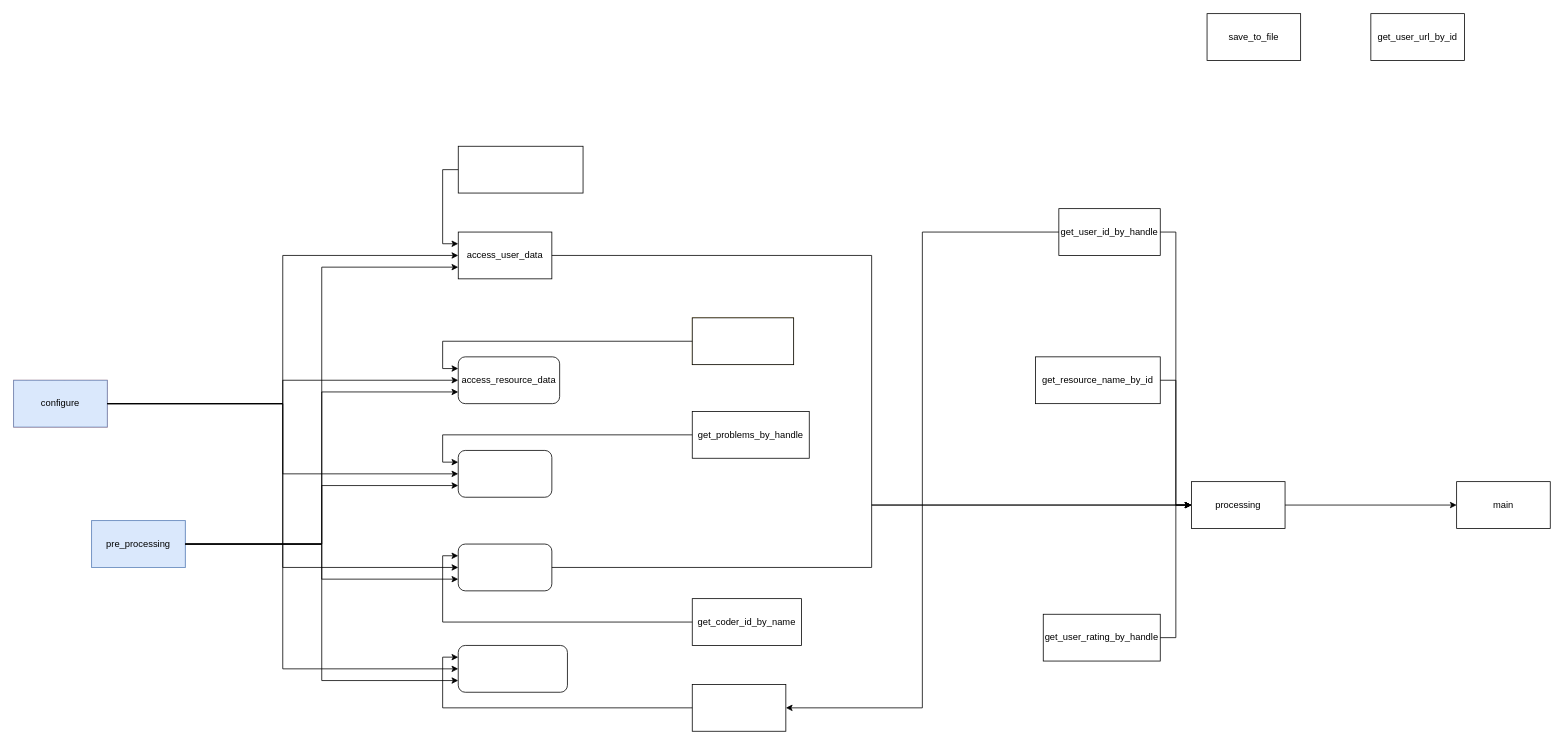
The diagram is 1564 pixels wide and 745 high, and some of its shapes have lost their labels. The box of each missing label's shape, as (x1, y1, x2, y2) in pixels:
access_coder_data: (457, 543, 552, 591)
access_problem_data: (457, 450, 552, 497)
get_problem_stats: (691, 684, 786, 731)
get_resource_url_by_id: (691, 317, 794, 365)
get_user_account_by_handle: (457, 145, 583, 193)
no_of_problems_solved: (457, 645, 567, 692)
